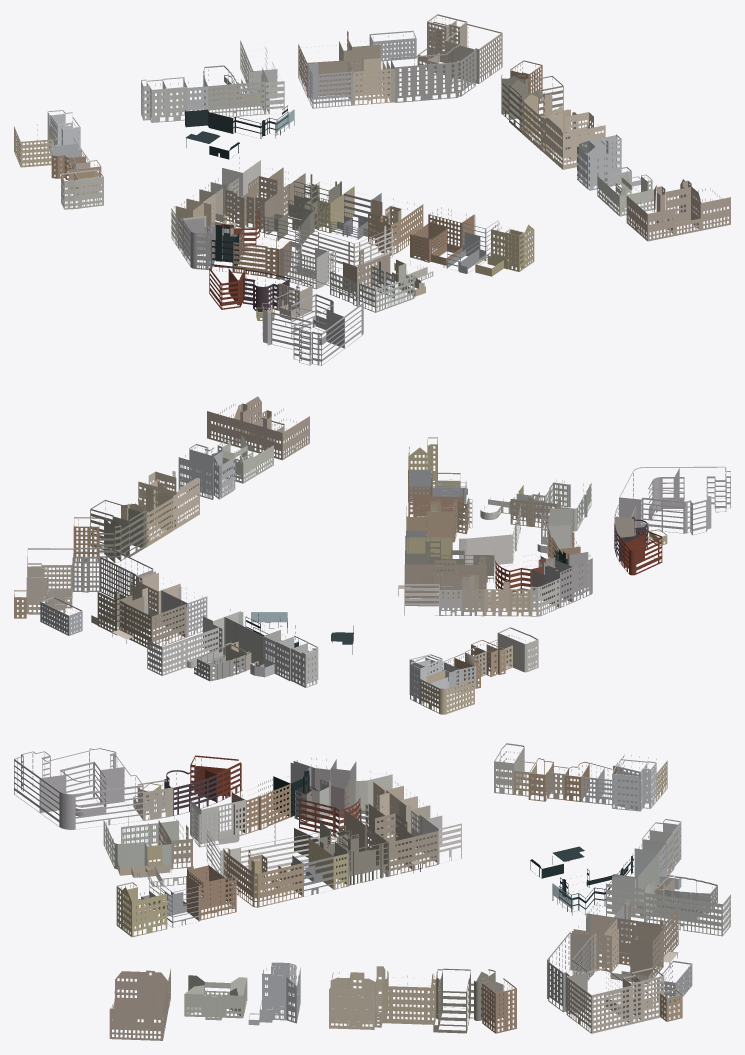
The model's file is bldg_walls.glb.
3 views of the same model, one above another, from view 1: azimuth 30°, elevation 25°; view 2: azimuth 150°, elevation 25°; view 3: azimuth 270°, elevation 25° (orthographic). The views are drawn at different scales.
Visible parts, largest first — view 1: bldg_walls__Facade Plaster #C9B79C, bldg_walls__Facade Plaster #B9A28A.001; view 2: bldg_walls__Facade Plaster #C9B79C, bldg_walls__Facade Plaster #B9A28A.001; view 3: bldg_walls__Facade Plaster #C9B79C, bldg_walls__Facade Plaster #B9A28A.001.
Part boxes in pixels (x1,y1,x2,y2): bldg_walls__Facade Plaster #C9B79C: (14,14,730,365); bldg_walls__Facade Plaster #B9A28A.001: (172,40,600,309); bldg_walls__Facade Plaster #C9B79C: (14,396,730,714); bldg_walls__Facade Plaster #B9A28A.001: (99,466,590,672); bldg_walls__Facade Plaster #C9B79C: (14,743,730,1040); bldg_walls__Facade Plaster #B9A28A.001: (104,757,730,1026).
Bounding box in the file's own units: 357 × 32.19 × 409.
4 materials, 4 textured.
